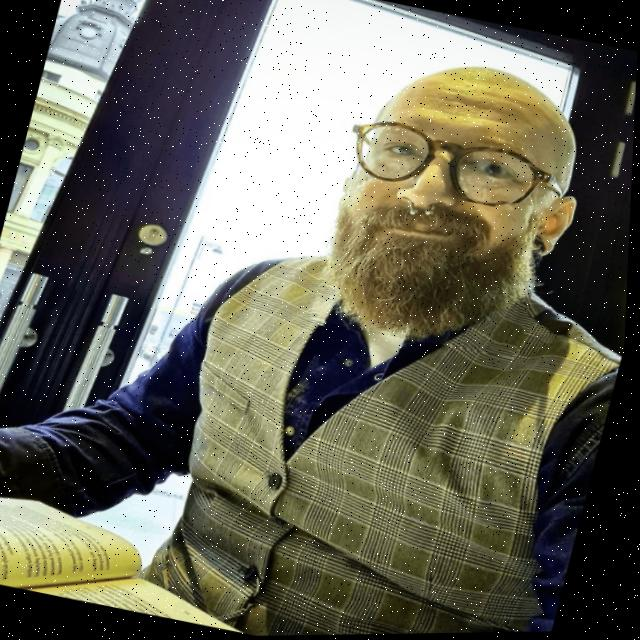beard: (331, 180, 538, 341)
